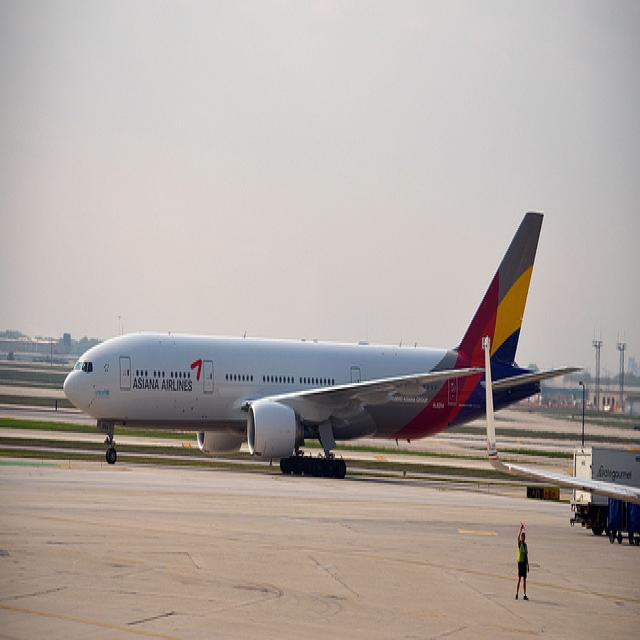Vehicle: (568, 447, 640, 531)
